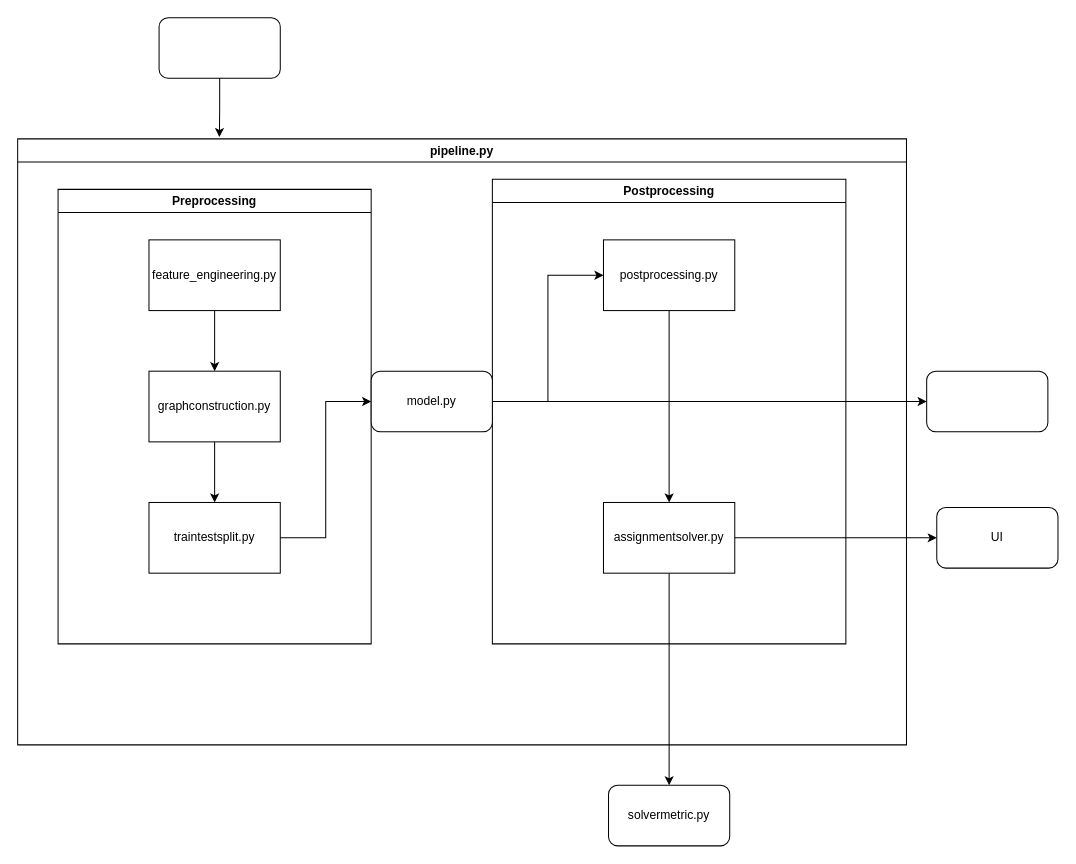
This 1076x864 diagram has some shape labels left out. Each missing label, with the centre of its shape:
"data" belongs at pixel 219 47.
"modelmetric.py" belongs at pixel 987 401.
